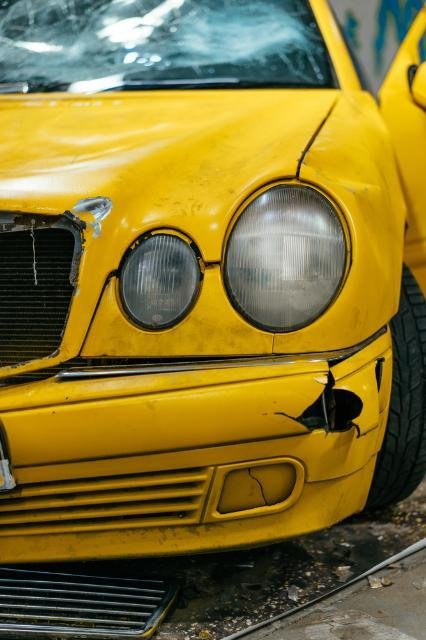crack: (273, 363, 364, 439), (248, 468, 269, 505), (375, 357, 387, 393)
dent: (307, 153, 381, 191)
dislocated part: (0, 322, 395, 562)
no part: (2, 218, 82, 370)
